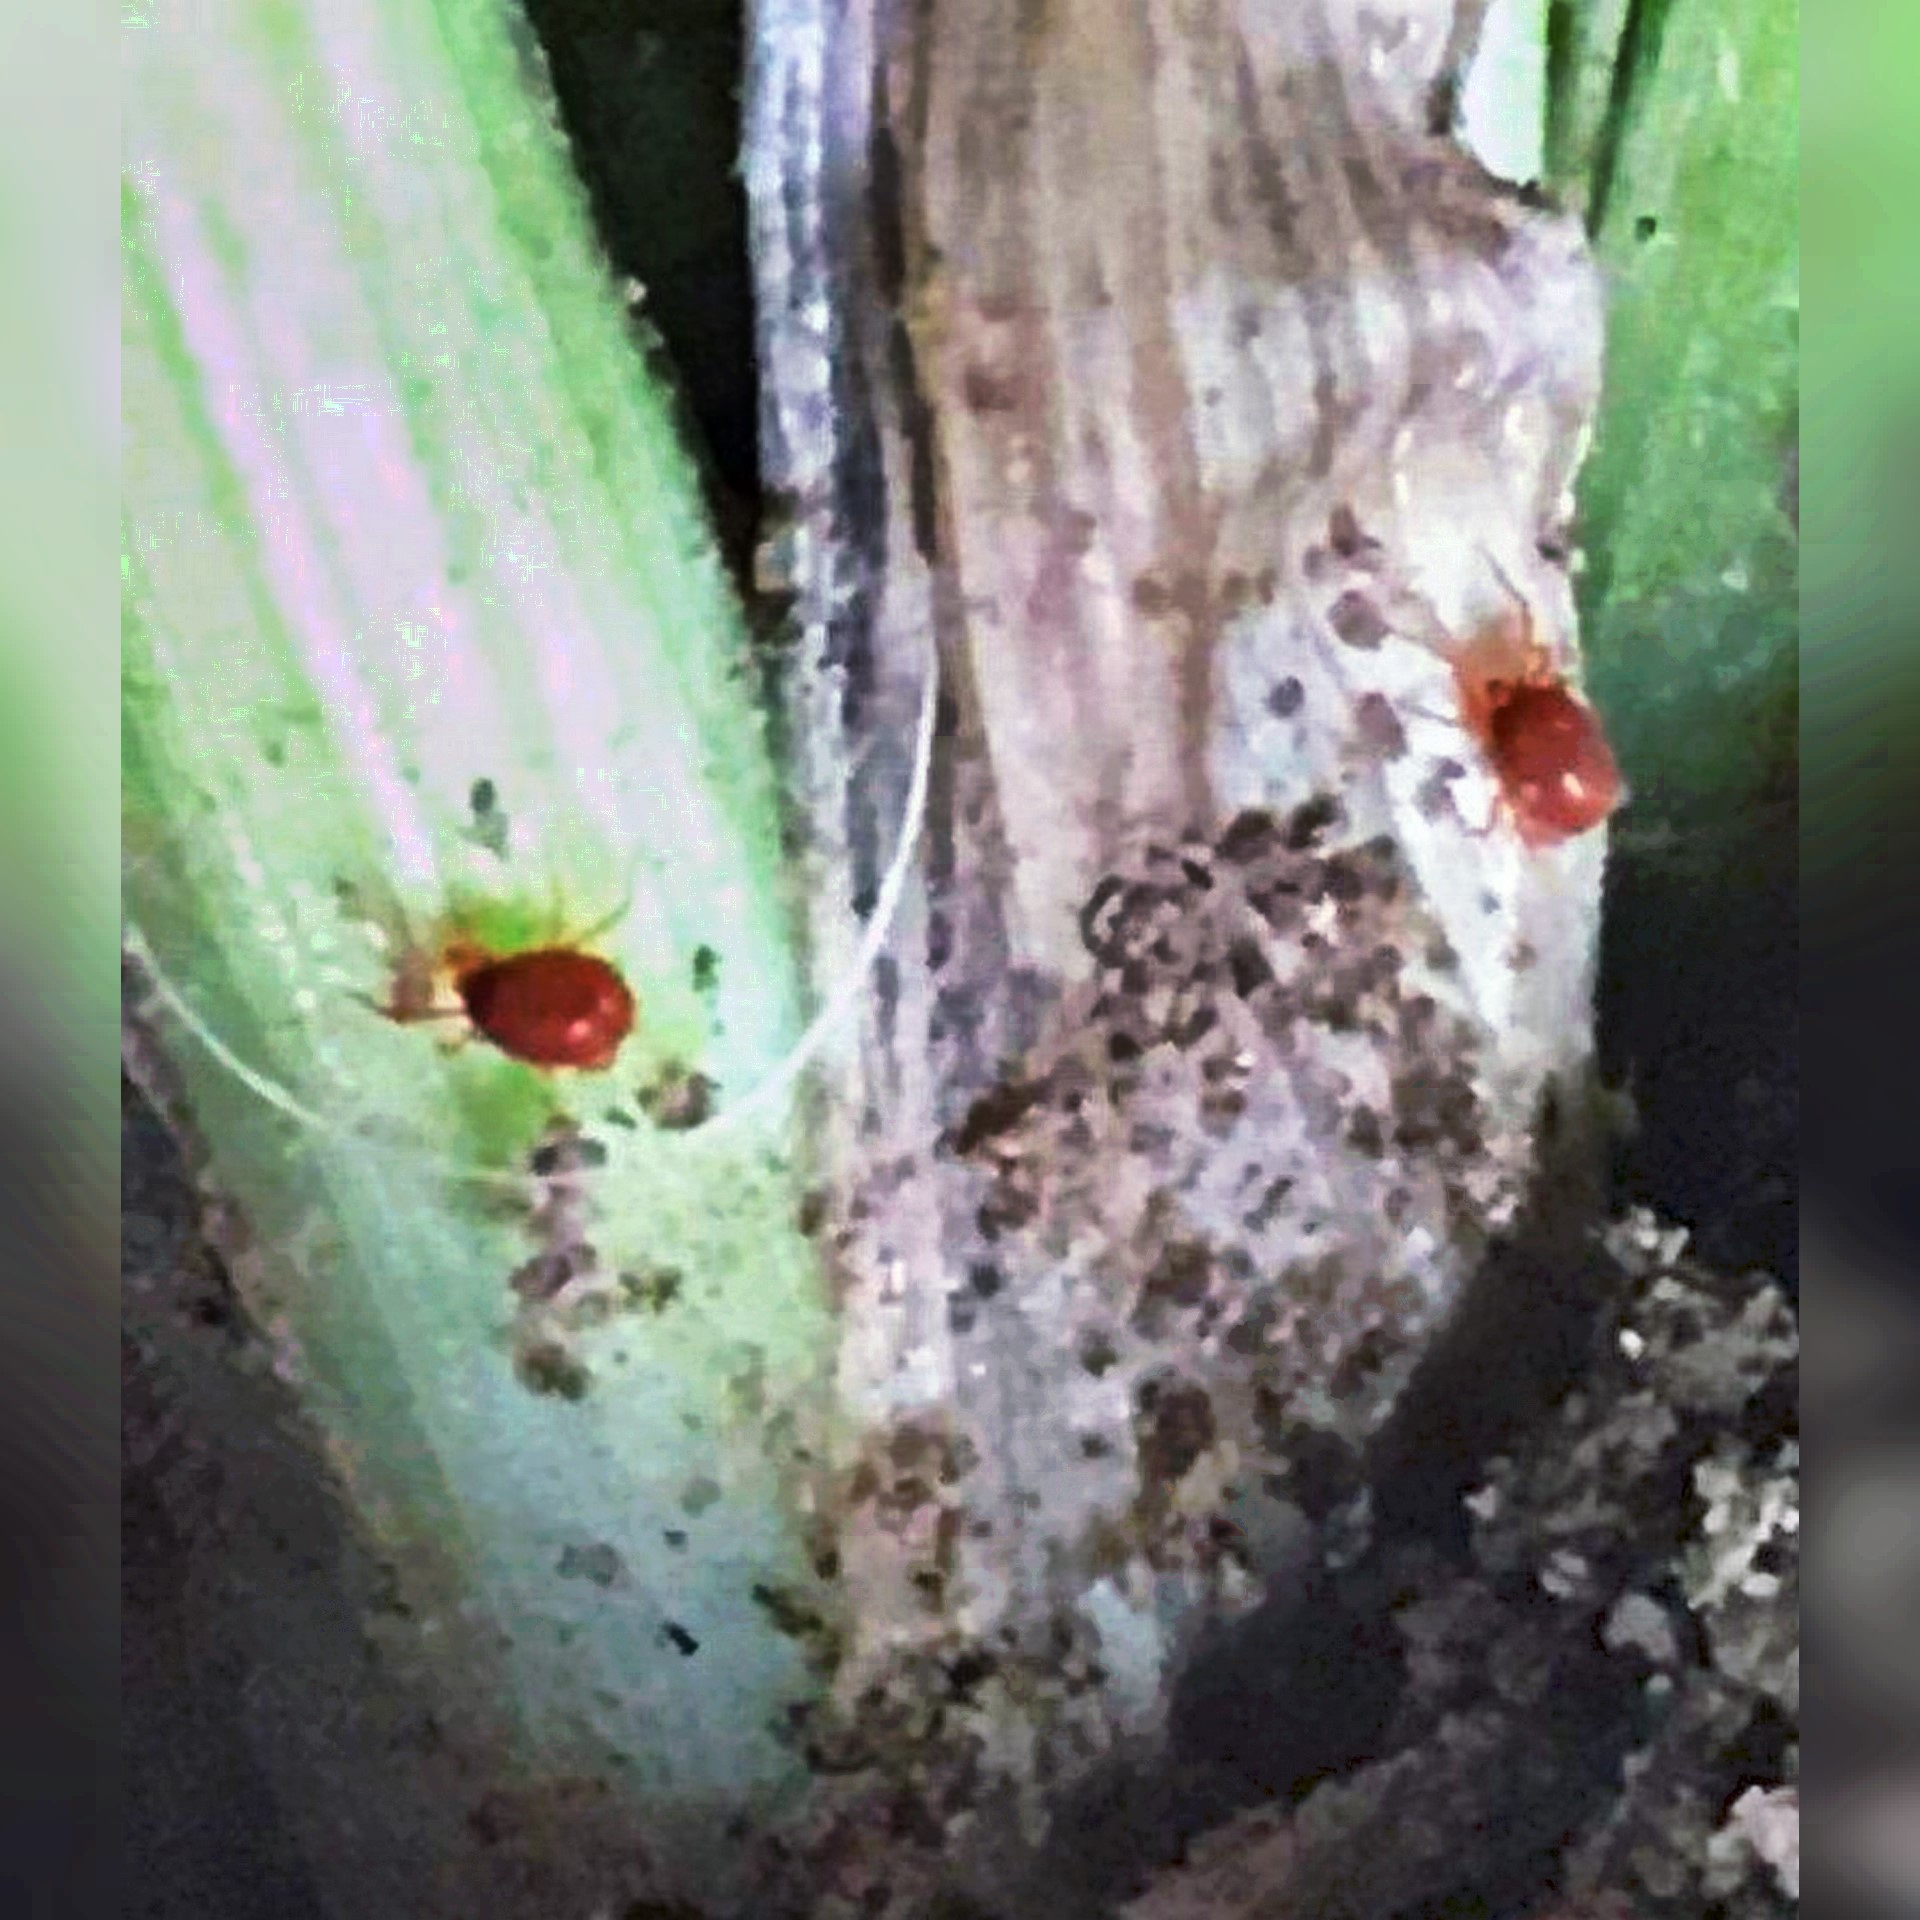Wheat Red Spider: (1371, 563, 1646, 888), (318, 867, 679, 1108)
